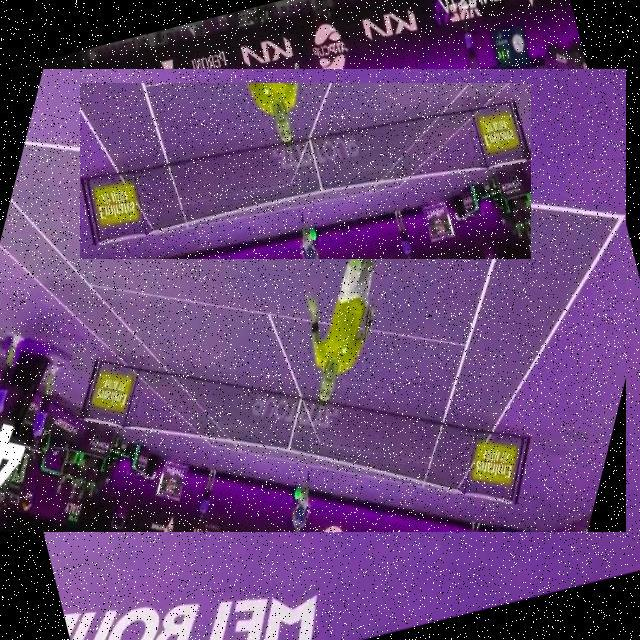court: (0, 69, 626, 532)
net: (80, 83, 531, 259)
player: (280, 187, 408, 438)
